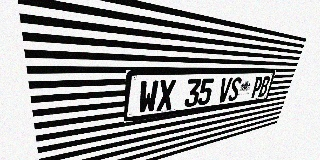3: (184, 79, 202, 108)
5: (197, 78, 214, 106)
B: (258, 76, 271, 97)
P: (250, 76, 264, 98)
S: (227, 77, 242, 101)
V: (217, 78, 233, 103)
W: (138, 80, 159, 114)
X: (156, 79, 176, 111)
